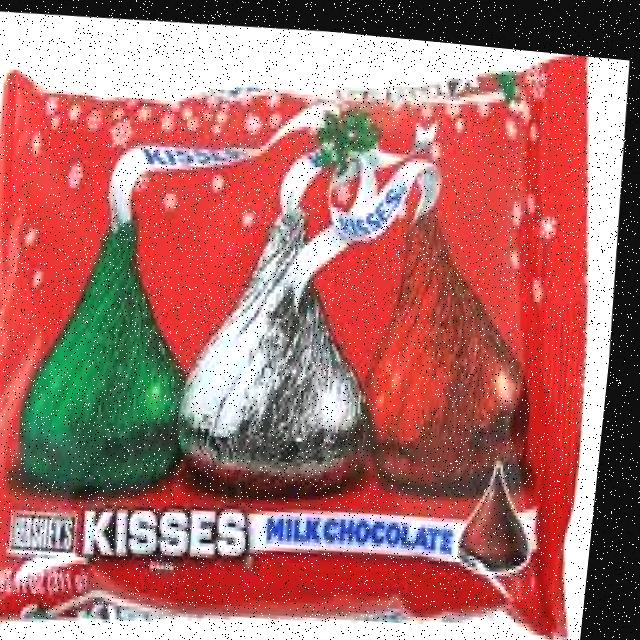kisses: (176, 185, 398, 503)
